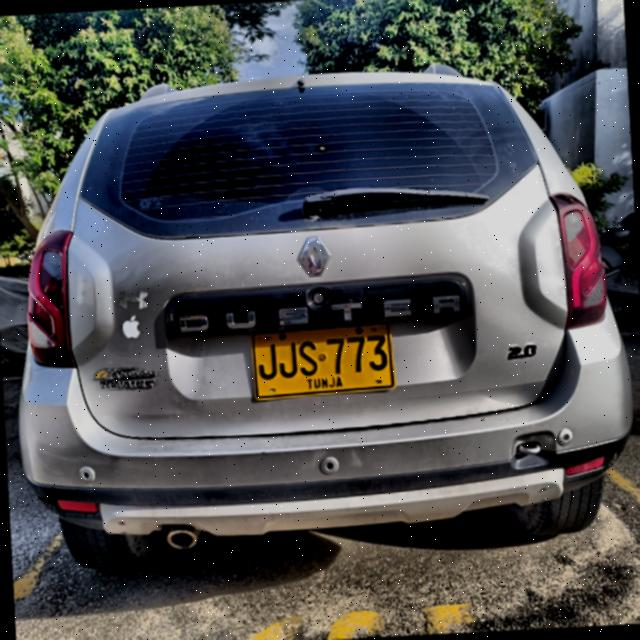plate: (252, 324, 394, 398)
